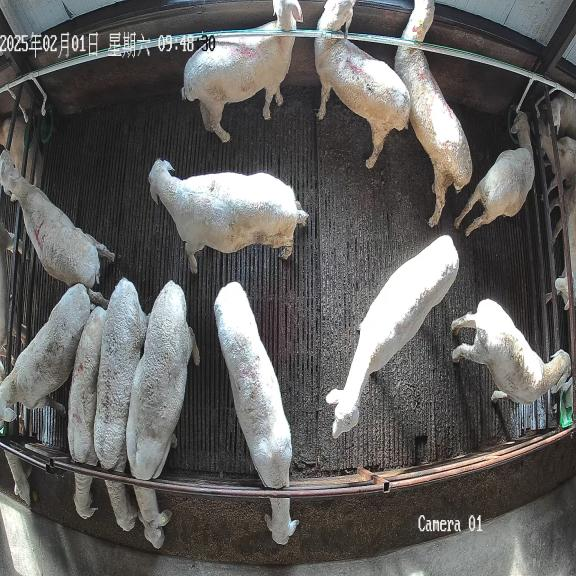drinking: (455, 113, 534, 235)
eating: (214, 282, 299, 544), (126, 281, 199, 548), (94, 278, 148, 531), (68, 306, 106, 519)
stand: (326, 235, 459, 438), (148, 160, 308, 273), (394, 0, 472, 227), (182, 0, 303, 142), (314, 0, 410, 168), (0, 150, 114, 288), (0, 283, 108, 422), (451, 299, 571, 404)
